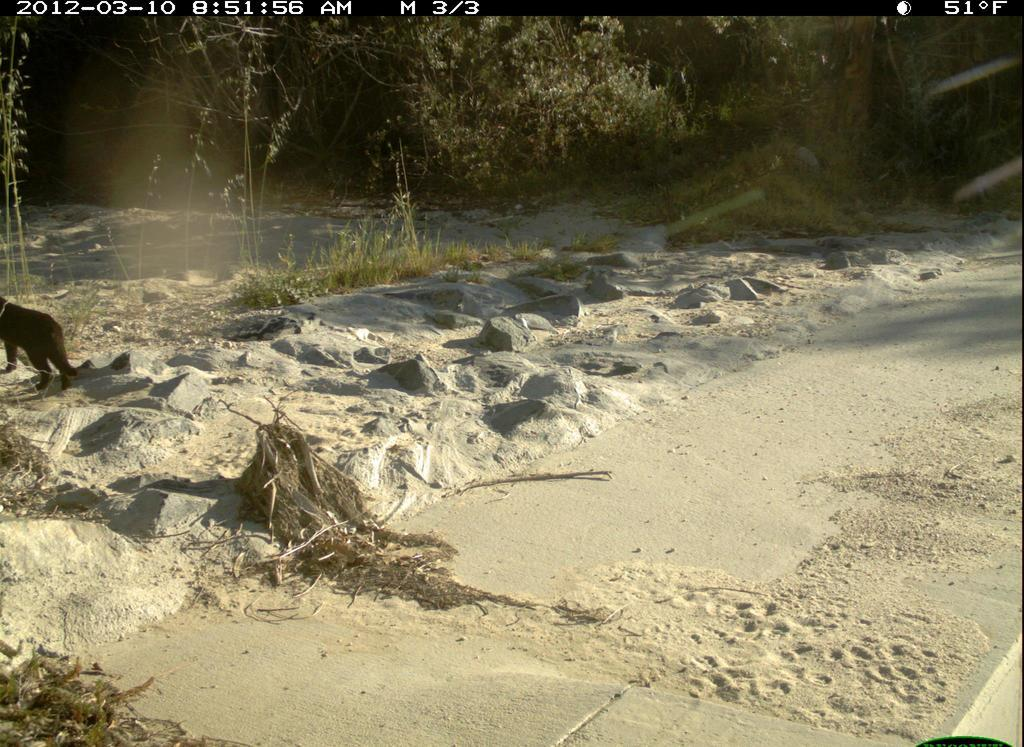cat: (3, 285, 102, 397)
